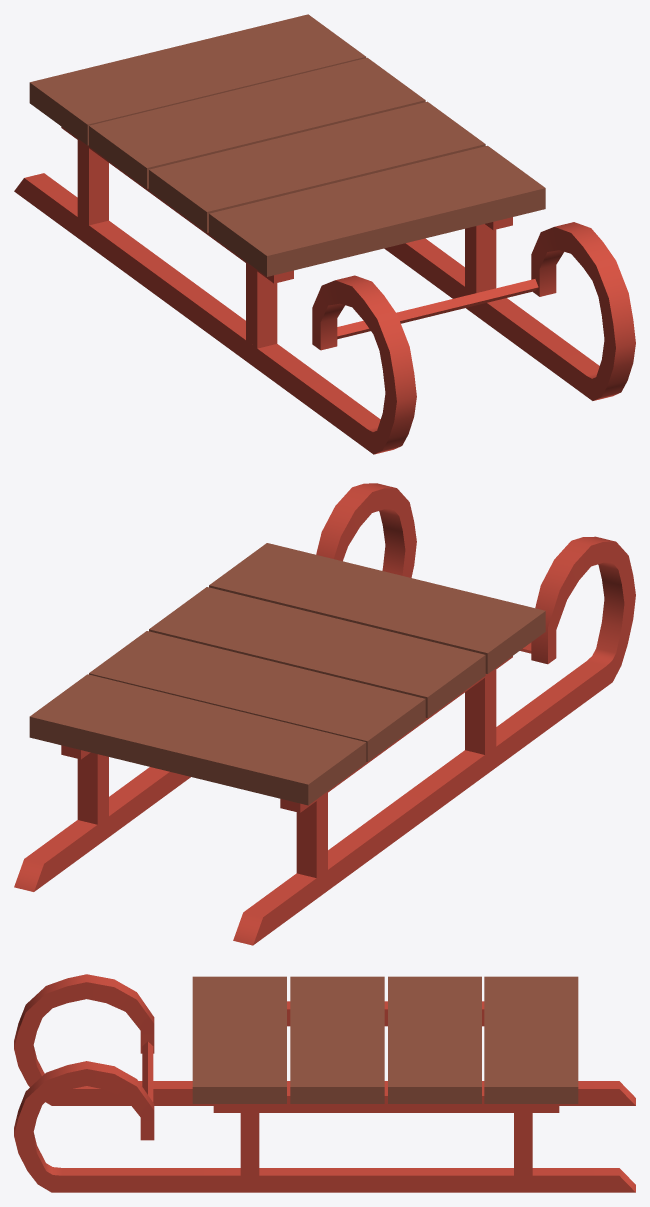
File: Christmas_Sleigh_1_231109.glb
The picture shows the model from 3 angles, top to bottom: view 1: azimuth 30°, elevation 25°; view 2: azimuth 150°, elevation 25°; view 3: azimuth 270°, elevation 25°; orthographic projection. The views are drawn at different scales.
Parts seen in each view (by area): view 1: Sleigh_1; view 2: Sleigh_1; view 3: Sleigh_1.
Boxes of the visible parts, x1,y1,x2,y2 form: Sleigh_1: (14, 14, 635, 454); Sleigh_1: (14, 483, 635, 945); Sleigh_1: (14, 974, 635, 1192).
Size of the model in its own units: 0.553 by 0.2891 by 1.32.
1 material, 1 textured.
